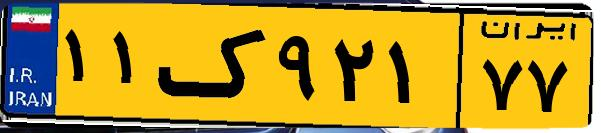1: (385, 28, 445, 110), (57, 26, 110, 100), (110, 28, 158, 98)
2: (330, 28, 385, 110)
7: (475, 38, 525, 113), (525, 38, 570, 115)
9: (270, 28, 330, 110)
ک: (158, 12, 270, 120)
